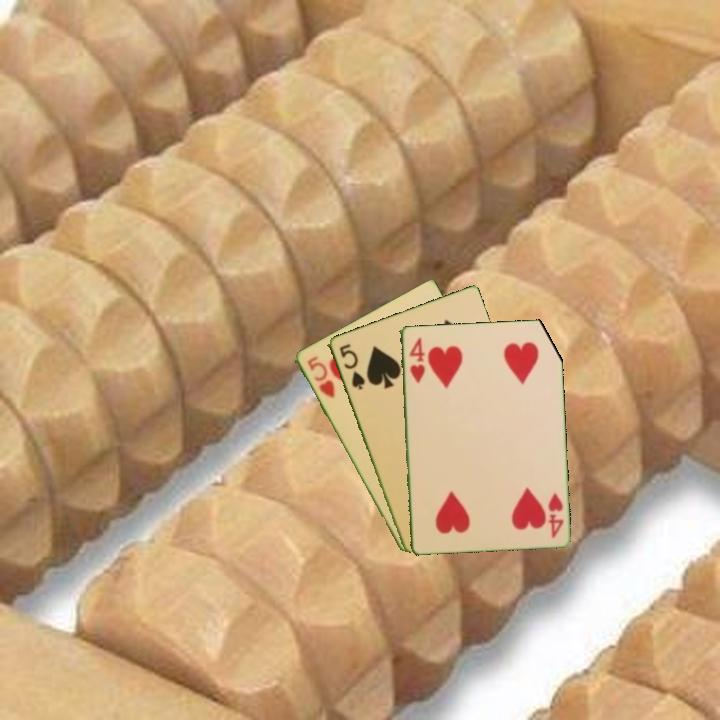4h: (405, 333, 427, 385), (544, 489, 566, 541)
5h: (303, 352, 337, 401)
5s: (336, 340, 368, 393)
